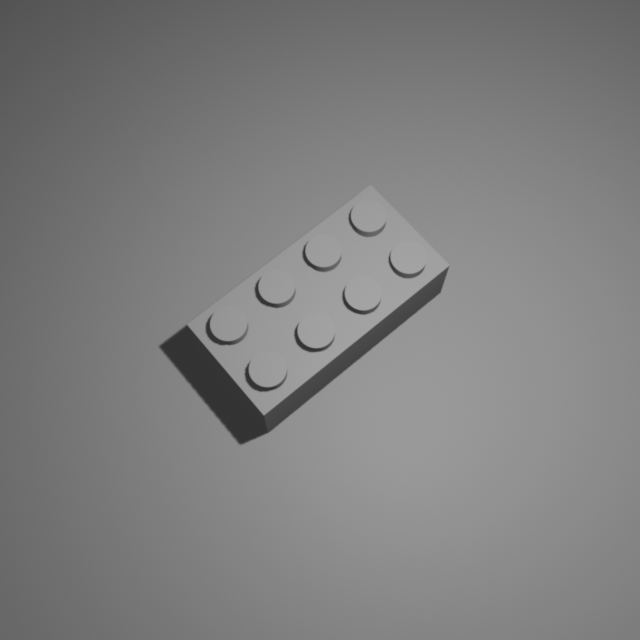lego_2x4: (185, 179, 451, 433)
